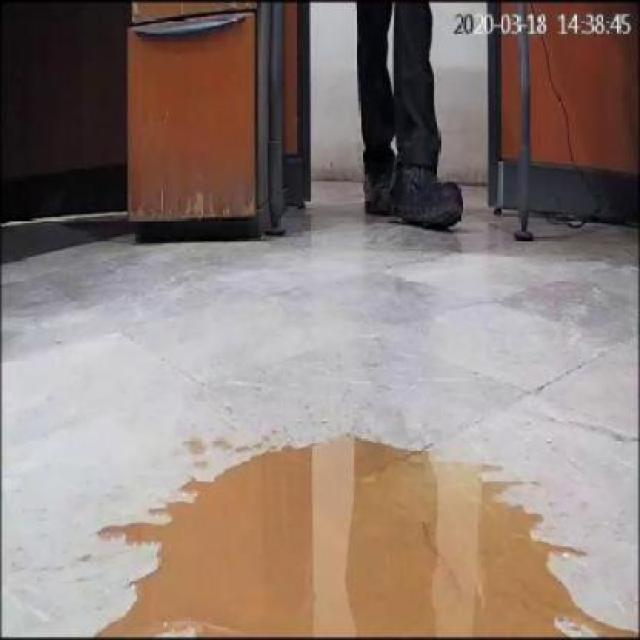spillage: (102, 438, 621, 640)
